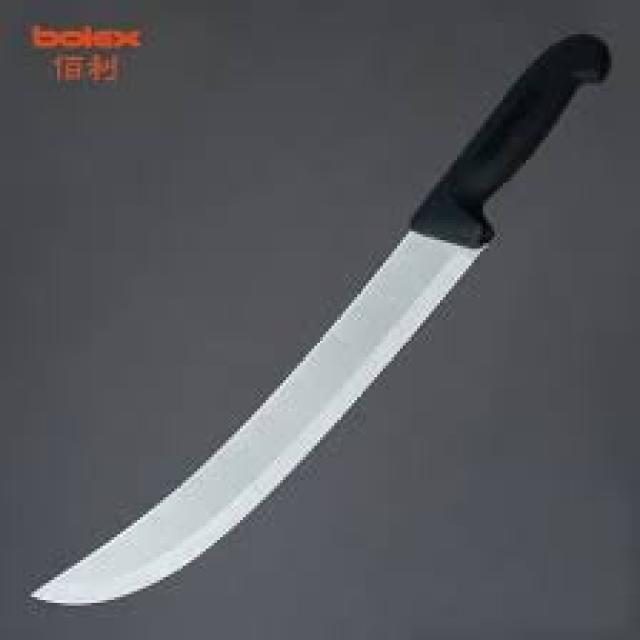Knife: (31, 31, 609, 603)
